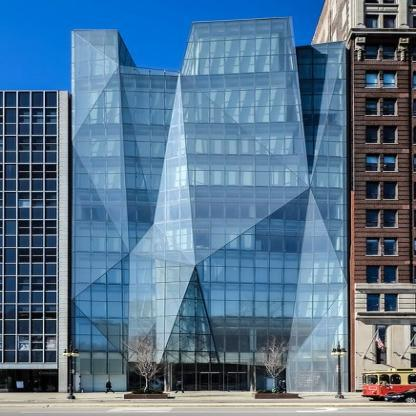Building Outline: (72, 16, 348, 393)
Dont: (123, 333, 177, 399), (251, 335, 299, 398), (62, 341, 80, 399), (330, 341, 346, 398), (174, 381, 185, 393), (105, 380, 114, 393)
Door: (200, 372, 221, 391), (228, 372, 247, 391)
Facade: (73, 72, 348, 392)
Floor: (73, 189, 348, 224), (73, 90, 348, 124), (73, 286, 348, 318), (73, 321, 348, 352), (73, 254, 348, 284), (73, 158, 348, 186), (73, 127, 348, 155), (73, 226, 348, 251)
Floor Slab: (73, 87, 348, 90), (73, 283, 348, 286), (73, 155, 348, 158), (73, 124, 348, 127), (73, 352, 348, 355), (73, 319, 348, 321), (73, 251, 348, 253), (73, 224, 348, 226), (73, 187, 348, 189)
Glass Wall: (72, 18, 348, 393)
Ground Floor: (73, 355, 348, 391)
Top Floor: (72, 18, 348, 87)
